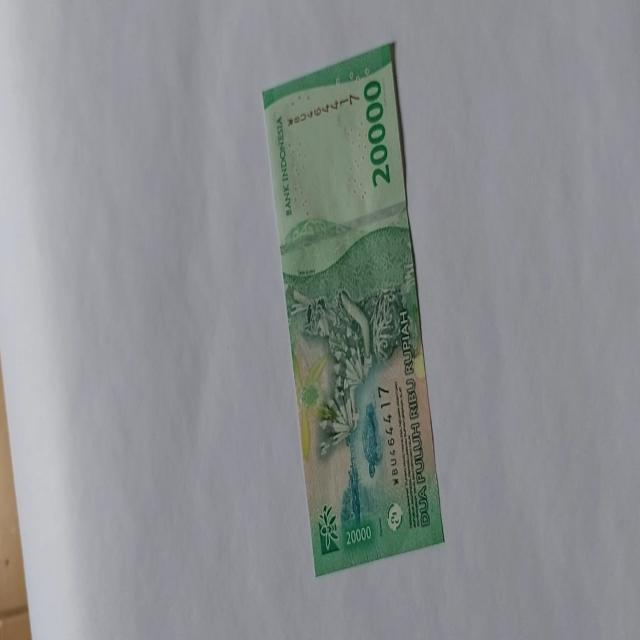dua puluh ribu rupiah: (260, 42, 444, 577), (282, 220, 418, 464)
